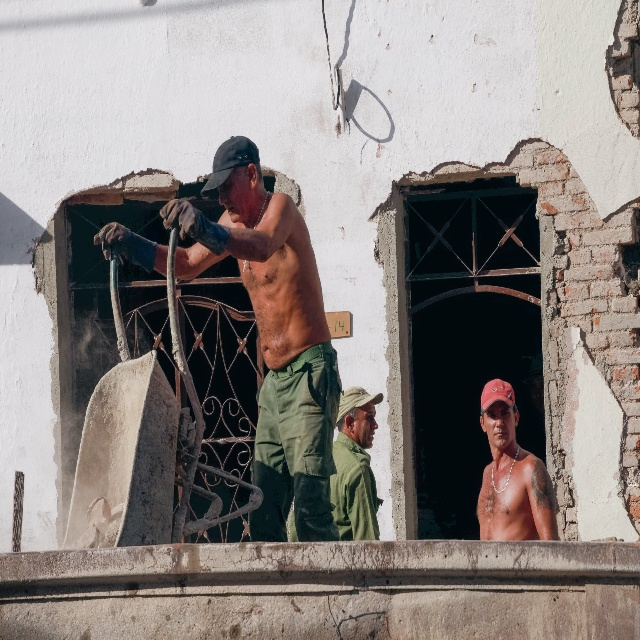Guantes: (160, 197, 229, 257), (93, 221, 158, 274)
